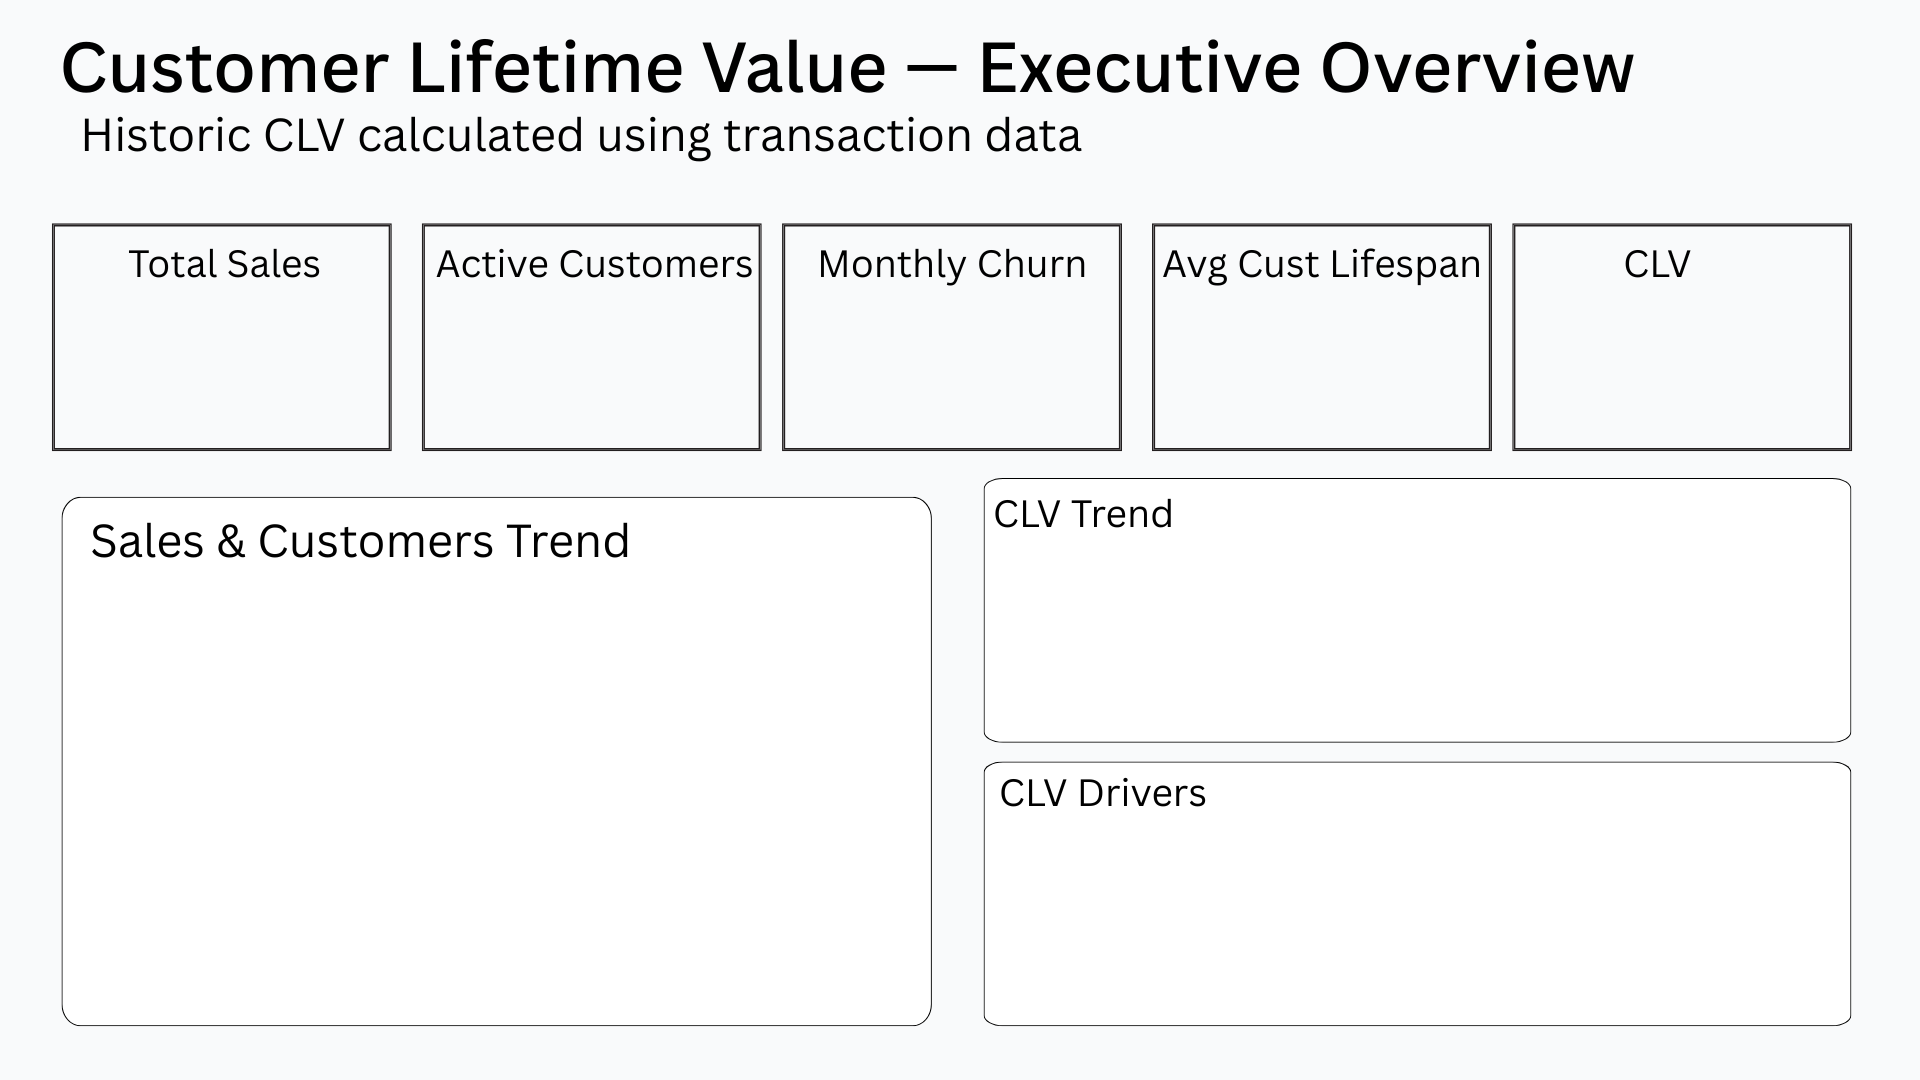

Layout of this report page (visuals, bound fields, positions):
{"tool":"powerbi","page":{"name":"CLV -1 ","canvas":[1280,720],"ordinal":0},"visuals":[{"type":"card","fields":{"Values":["Superstore.Total Sales"]},"box":[70,192,160,80],"z":0},{"type":"card","fields":{"Values":["Superstore.Active Customers"]},"box":[308,192,160,80],"z":1000},{"type":"card","fields":{"Values":["Superstore.Monthly Churn"]},"box":[560,192,160,80],"z":2000},{"type":"card","fields":{"Values":["Superstore.Average Customer Lifespan (months)"]},"box":[804,192,160,80],"z":3000},{"type":"card","fields":{"Values":["Superstore.-- CLV using ARPC * Avg LifespanCLV (ARPC * Lifespan)"]},"box":[1030,192,160,80],"z":4000},{"type":"lineStackedColumnComboChart","fields":{"Category":["Order - Dates.Dates.Variation.Date Hierarchy.Year","Order - Dates.Dates.Variation.Date Hierarchy.Quarter","Order - Dates.Dates.Variation.Date Hierarchy.Month","Order - Dates.Dates.Variation.Date Hierarchy.Day"],"Y":["Superstore.Total Sales"],"Y2":["Superstore.Active Customers"]},"box":[52,382,554,298],"z":5000},{"type":"stackedAreaChart","fields":{"Category":["Order - Dates.Dates.Variation.Date Hierarchy.Year","Order - Dates.Dates.Variation.Date Hierarchy.Quarter","Order - Dates.Dates.Variation.Date Hierarchy.Month","Order - Dates.Dates.Variation.Date Hierarchy.Day"],"Y":["Superstore.-- CLV using APV * APF * Lifespan (equivalent)CLV (APV * APF * Lifespan)"]},"box":[670,360,552,130],"z":6000},{"type":"lineClusteredColumnComboChart","fields":{"Category":["Order - Dates.Dates.Variation.Date Hierarchy.Year","Order - Dates.Dates.Variation.Date Hierarchy.Quarter","Order - Dates.Dates.Variation.Date Hierarchy.Month","Order - Dates.Dates.Variation.Date Hierarchy.Day"],"Y":["Superstore.Average Purchase Value (revenue per order)"],"Y2":["Superstore.Average Purchase Frequency (APF)"]},"box":[666,546,556,134],"z":7000},{"type":"slicer","fields":{"Values":["Order - Dates.Year"]},"box":[1051.4,68.6,228.6,71.4],"z":8000}]}

Visuals, with their boxes in screenshot pixels (x1, y1, x2, y2), scaled from the page's 1280x720 canvas onto the 1920x1080 screenshot:
card - Superstore.Total Sales: bbox=(105, 288, 345, 408)
card - Superstore.Active Customers: bbox=(462, 288, 702, 408)
card - Superstore.Monthly Churn: bbox=(840, 288, 1080, 408)
card - Superstore.Average Customer Lifespan (months): bbox=(1206, 288, 1446, 408)
card - Superstore.-- CLV using ARPC * Avg LifespanCLV (ARPC * Lifespan): bbox=(1545, 288, 1785, 408)
lineStackedColumnComboChart - Order - Dates.Dates.Variation.Date Hierarchy.Year x Order - Dates.Dates.Variation.Date Hierarchy.Quarter: bbox=(78, 573, 909, 1020)
stackedAreaChart - Order - Dates.Dates.Variation.Date Hierarchy.Year x Order - Dates.Dates.Variation.Date Hierarchy.Quarter: bbox=(1005, 540, 1833, 735)
lineClusteredColumnComboChart - Order - Dates.Dates.Variation.Date Hierarchy.Year x Order - Dates.Dates.Variation.Date Hierarchy.Quarter: bbox=(999, 819, 1833, 1020)
slicer - Order - Dates.Year: bbox=(1577, 103, 1919, 210)
